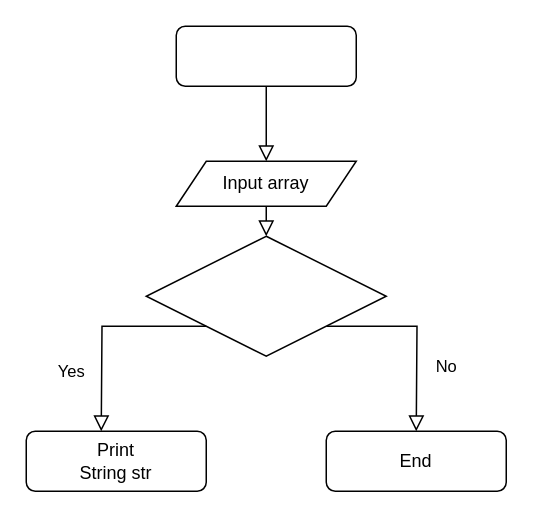
Image size: 533x518. Some labels were removed from this diagram. The shapes that lost their labels are listed below. From the top down, each one's box as (x1, y1, x2, y2) in pixels, then its label:
(175, 25, 356, 86): Start
(145, 235, 386, 356): String str <=3 count++
